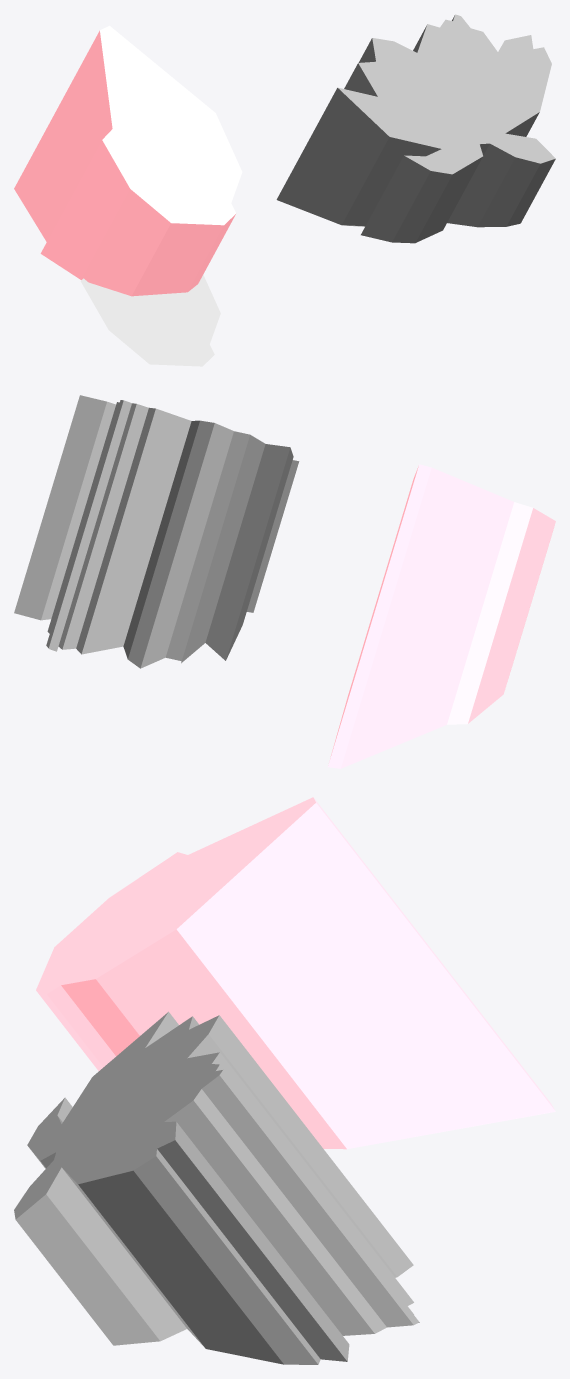
The model's file is Bud7.glb.
3 renders of one model, top to bottom at view 1: azimuth 30°, elevation 25°; view 2: azimuth 150°, elevation 25°; view 3: azimuth 270°, elevation 25°, orthographic. The views are drawn at different scales.
Visible parts, largest first — view 1: Plane, Plane.001, Plane.002; view 2: Plane, Plane.001; view 3: Plane.001, Plane.
Part boxes in pixels (<box>): Plane: <box>276,14,555,243</box>; Plane.001: <box>14,25,242,296</box>; Plane.002: <box>80,275,220,366</box>; Plane: <box>14,395,299,668</box>; Plane.001: <box>328,464,555,768</box>; Plane.001: <box>36,797,555,1149</box>; Plane: <box>14,1011,419,1364</box>.
Bounding box in the file's own units: 9.59 × 6.04 × 7.48.
